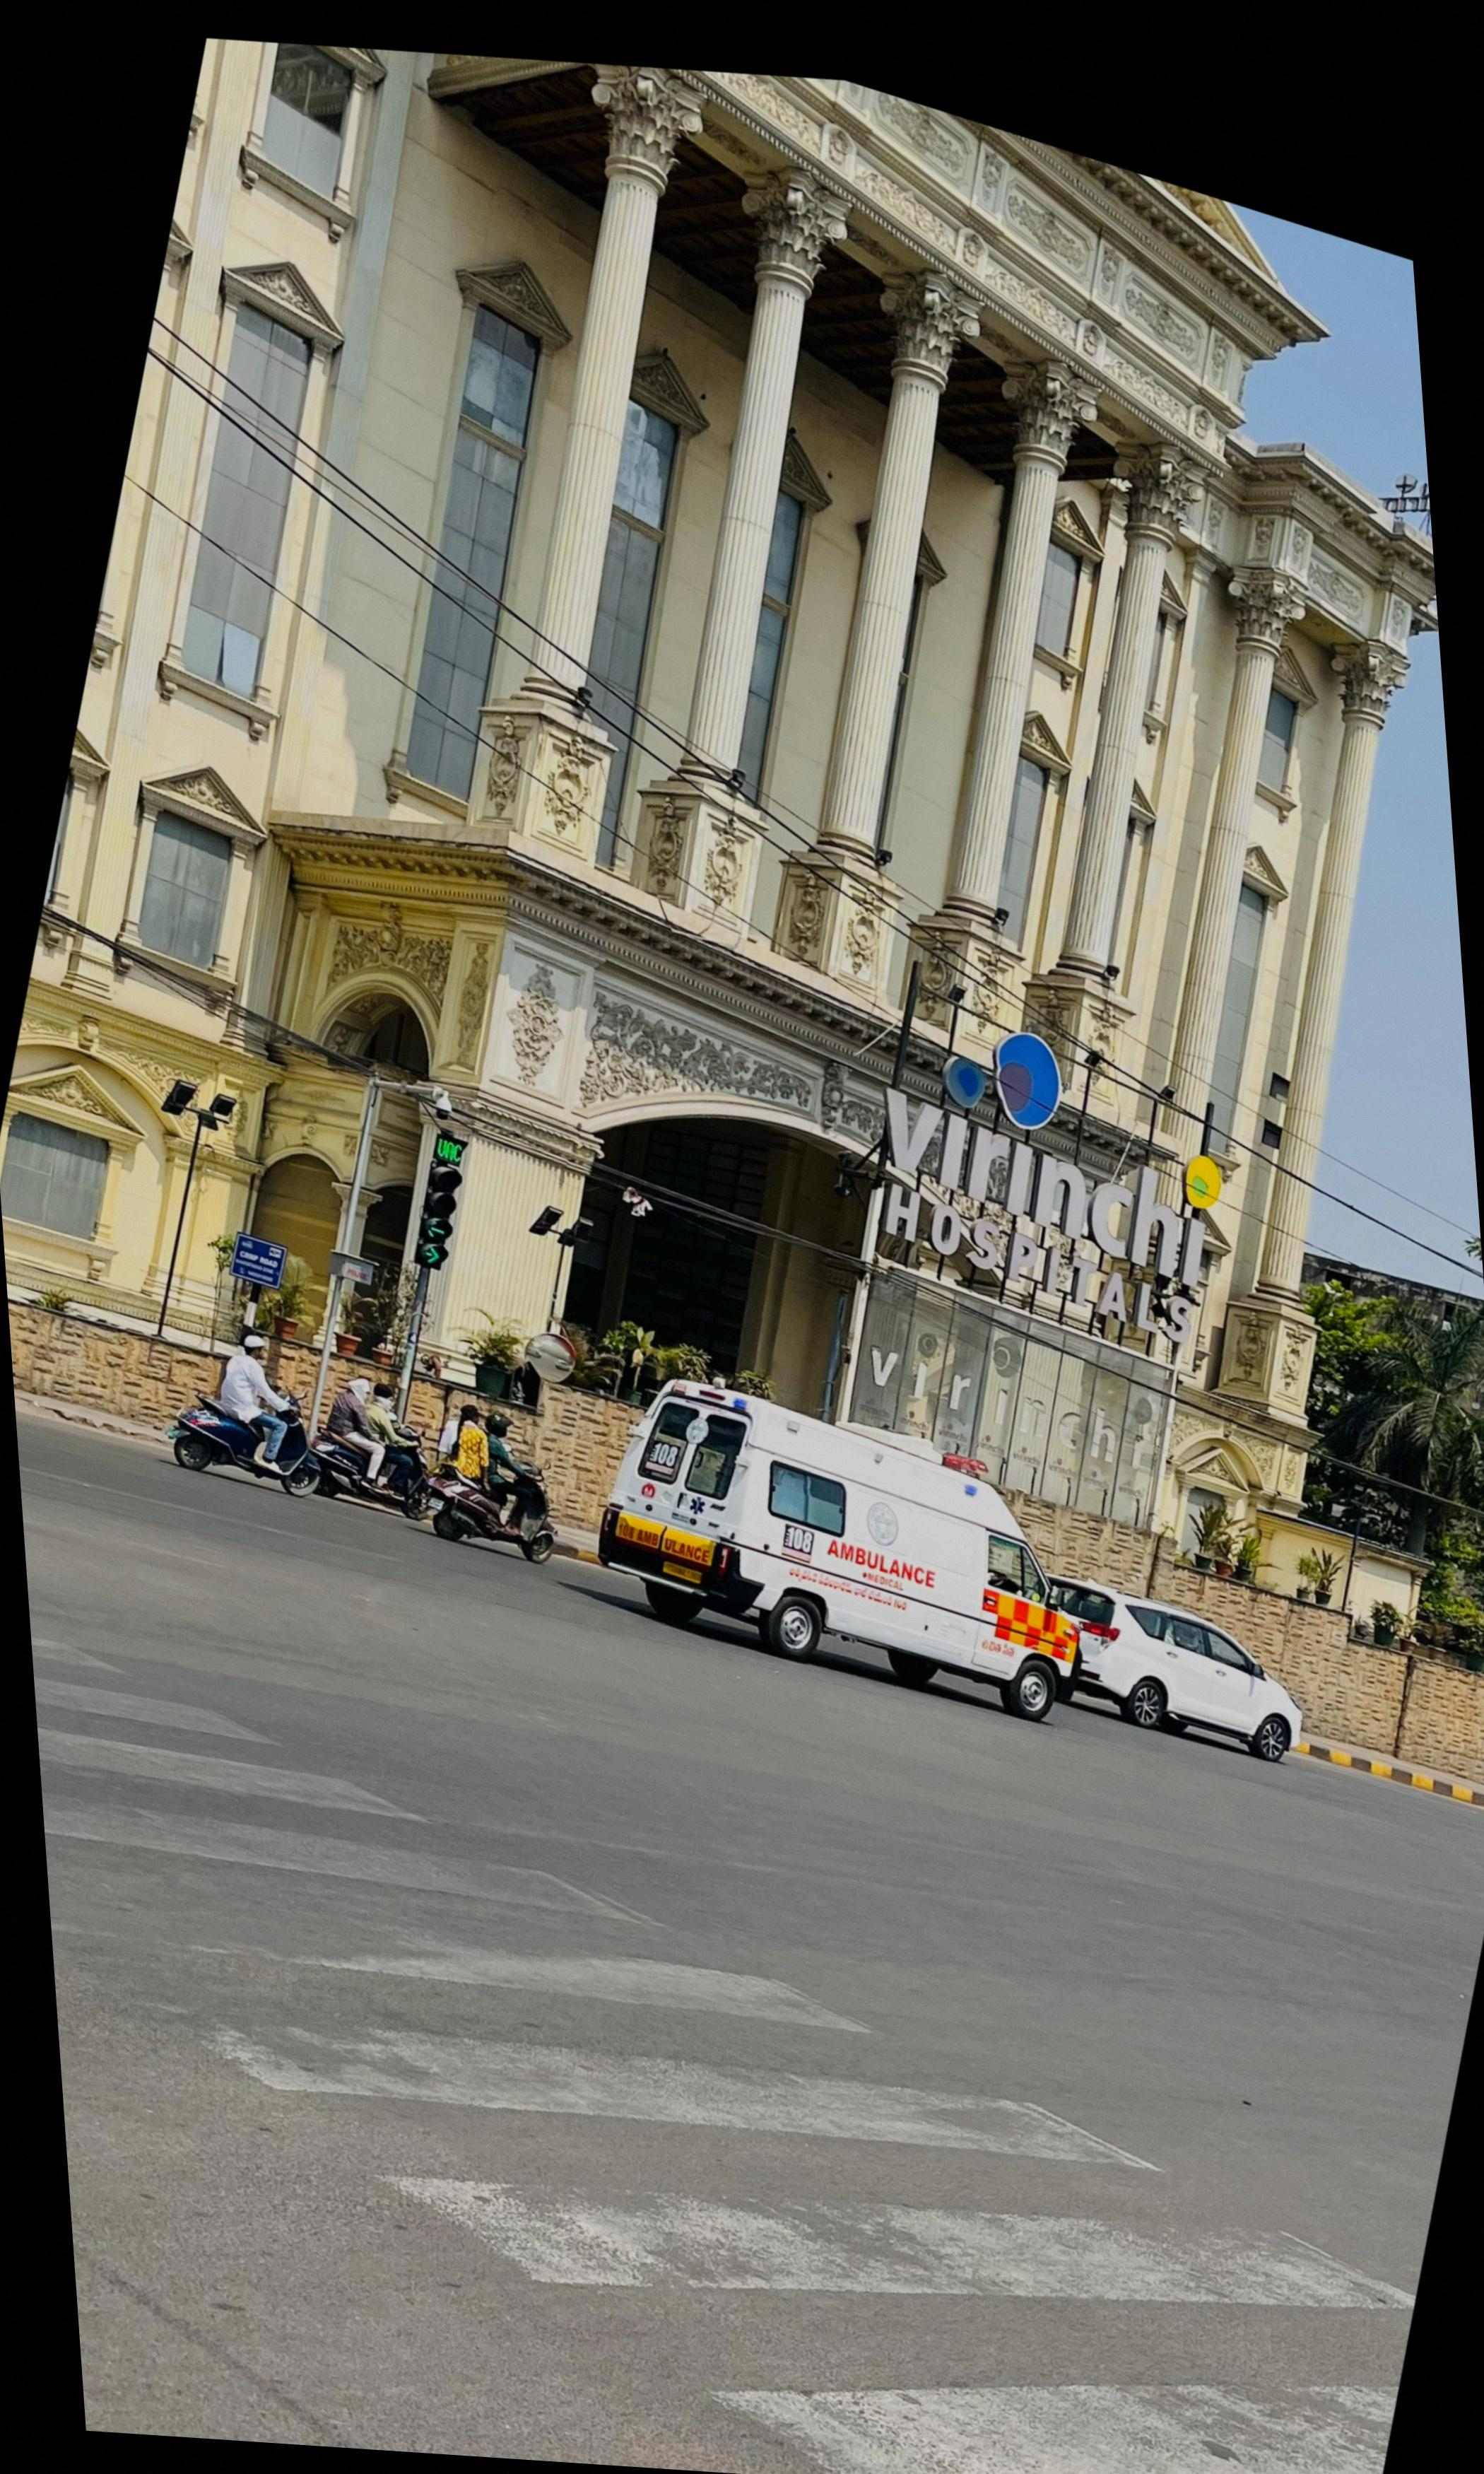ambulance: (597, 1378, 1081, 1719)
